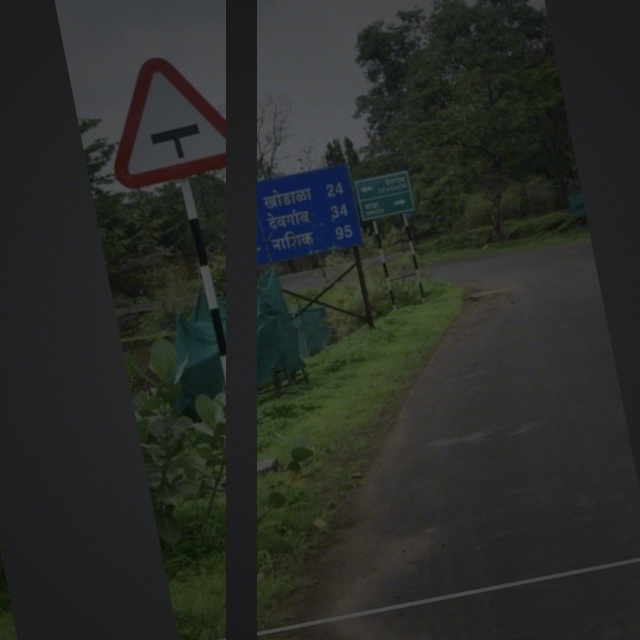T_Intersection: (92, 31, 257, 201)
